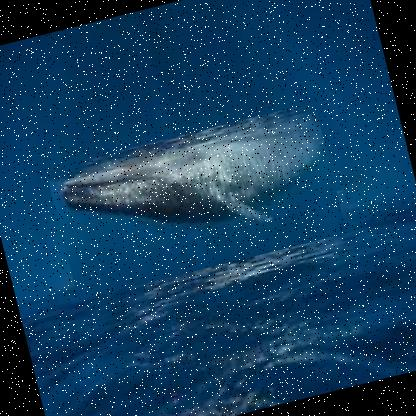blue_whale: (44, 101, 348, 300)
